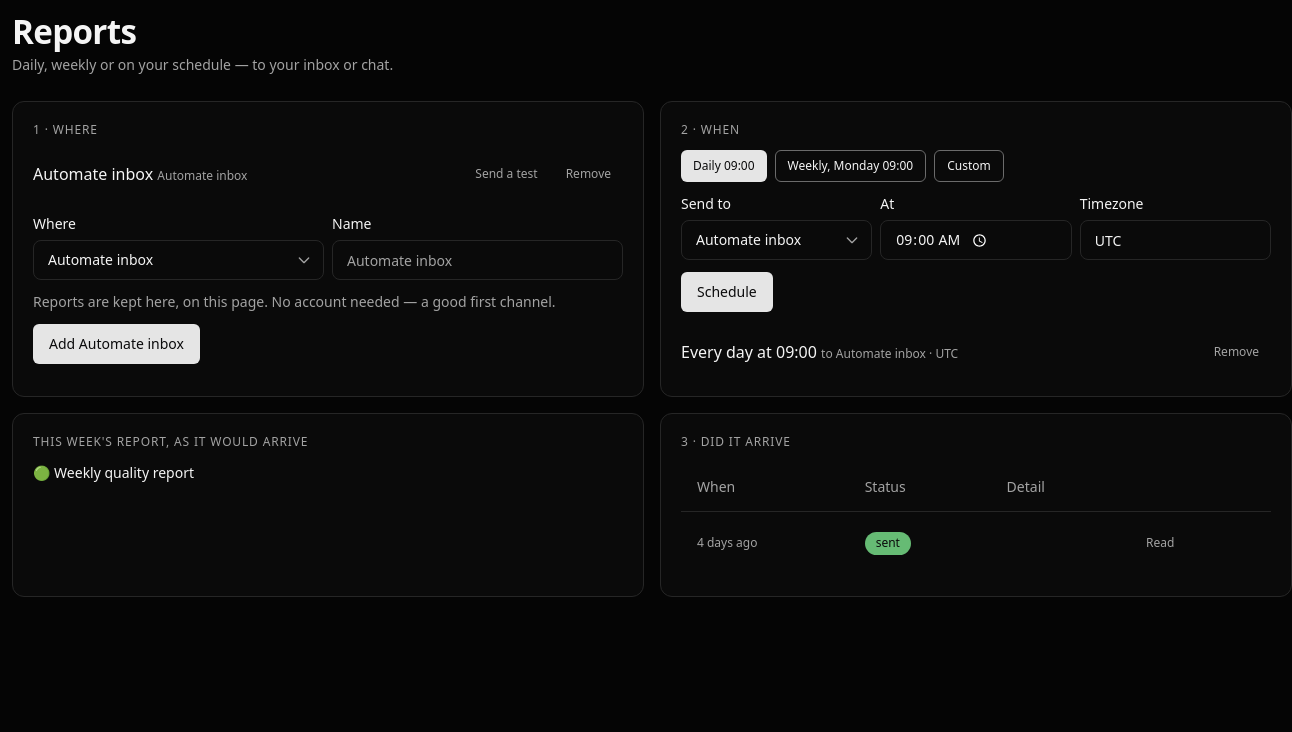
it: NotificationsPage › sends a test and reports the outcome in a toast
The image size is (1292, 732).
Click the button "Send a test": (506, 174) [463,158,550,190]
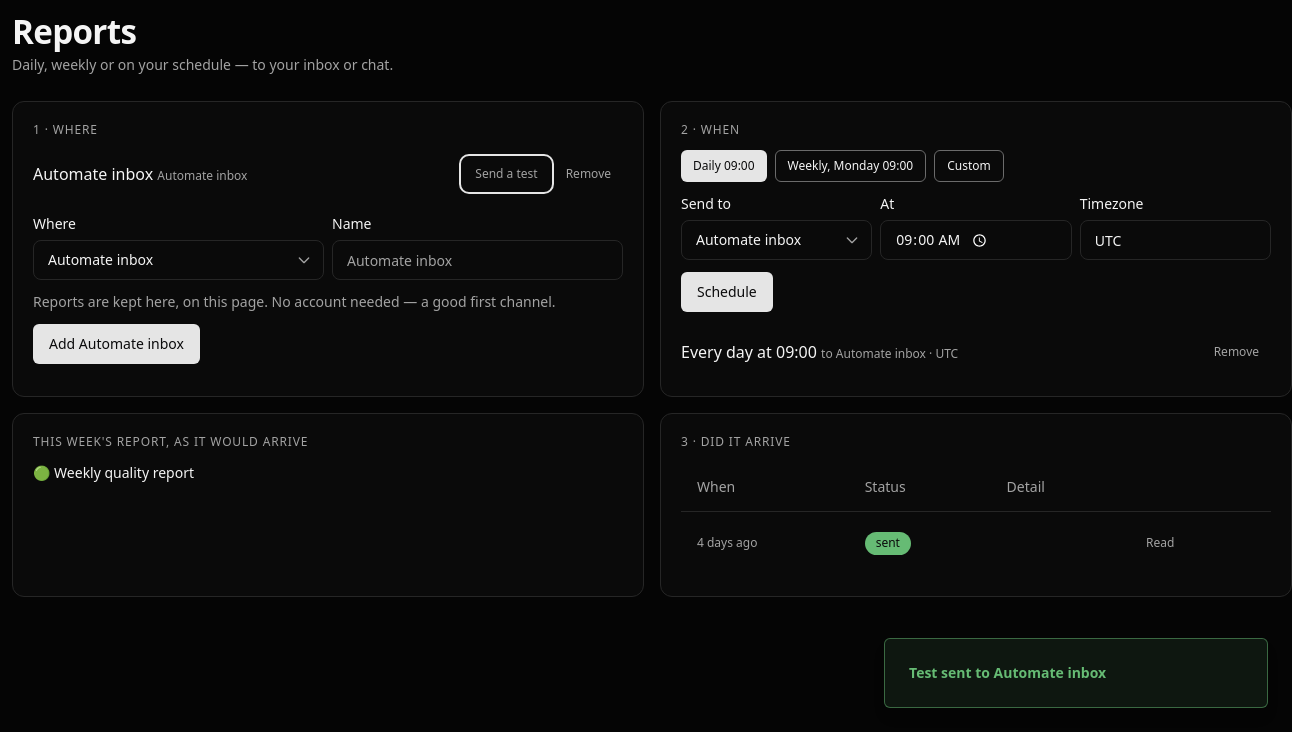
Result: the text "Test sent to Automate inbox" is shown at [909,663,1106,683]
Click the button "Send a test": (506, 174) [463,158,550,190]
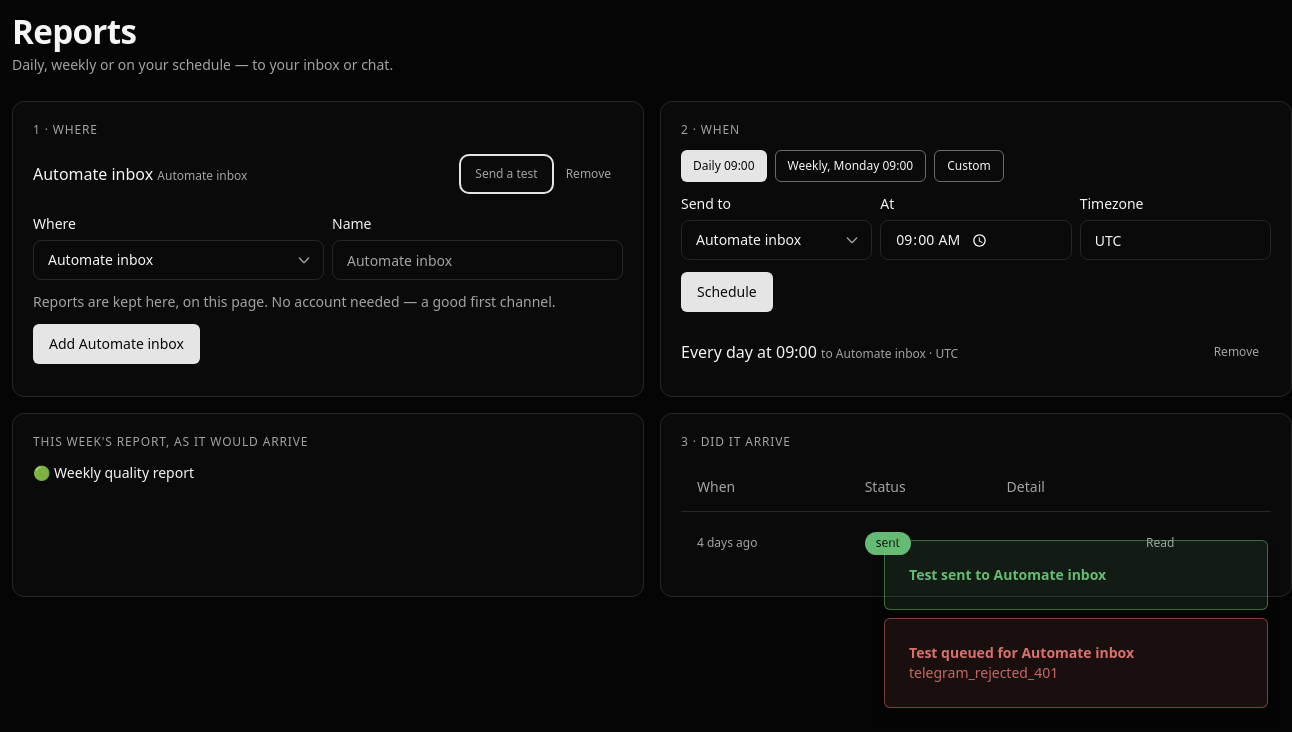
Result: the text "telegram_rejected_401" is shown at [909,663,1058,682]
Click the button "Send a test": (506, 174) [463,158,550,190]
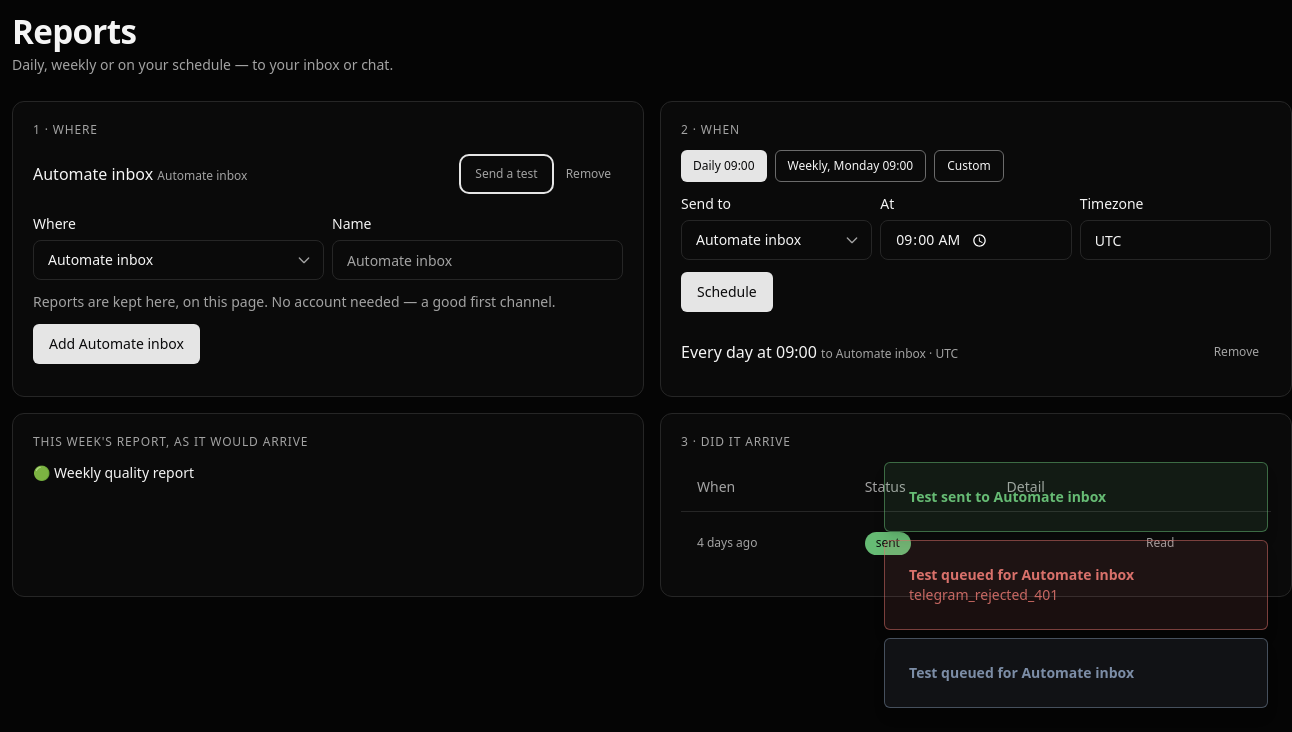
Result: the 1st text "Test queued for Automate inbox" is shown at [909,565,1134,585]
Click the button "Send a test": (506, 174) [463,158,550,190]
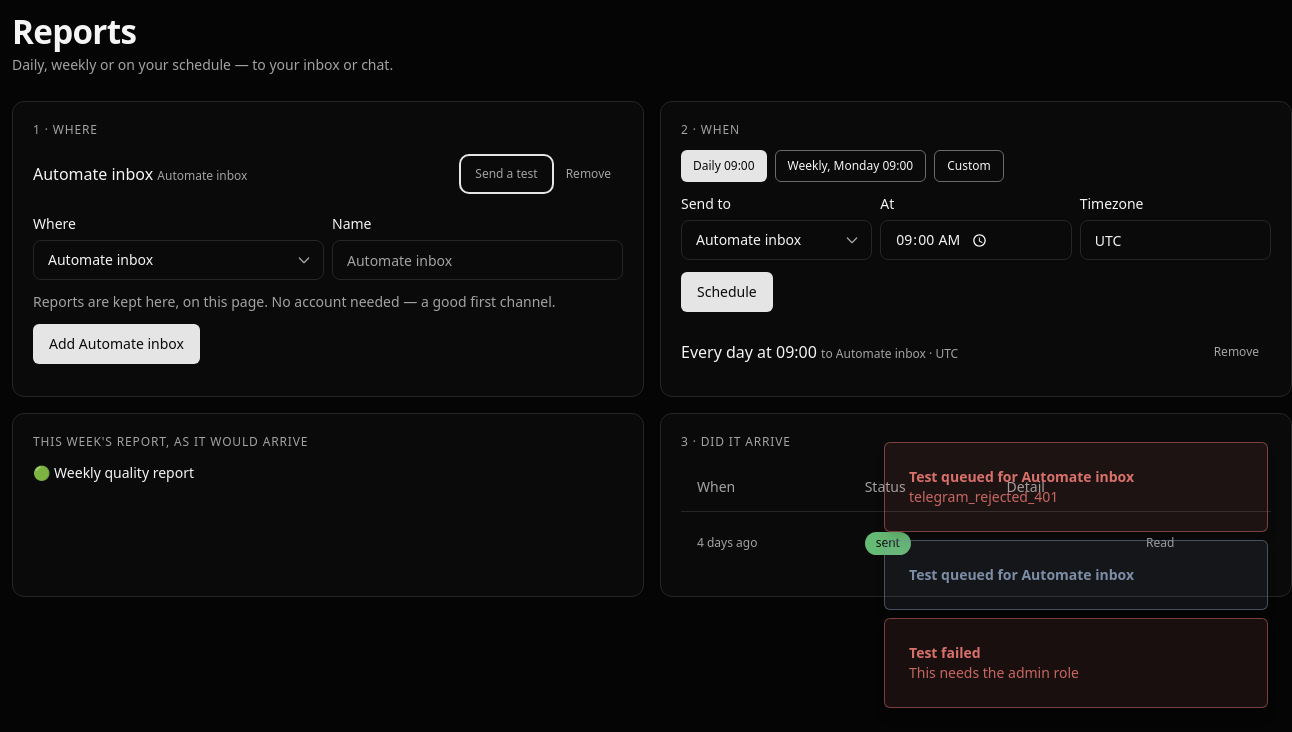
Result: the text "This needs the admin role" is shown at [909,663,1079,683]
